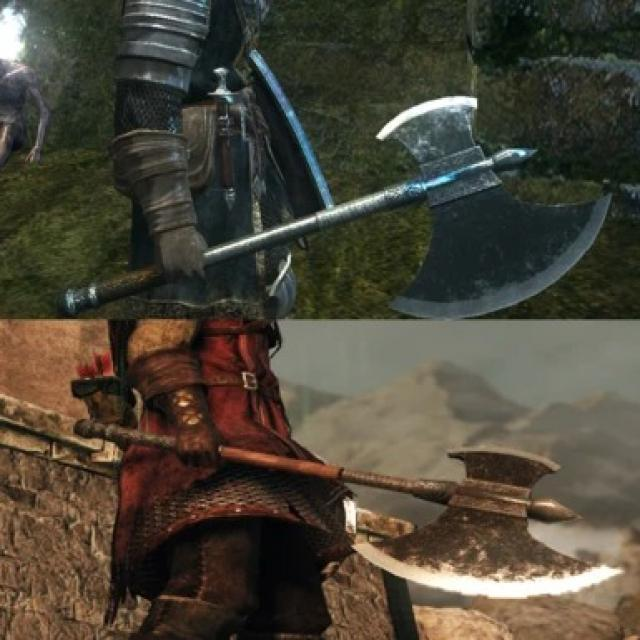axe: (66, 93, 613, 314), (76, 416, 621, 601)
